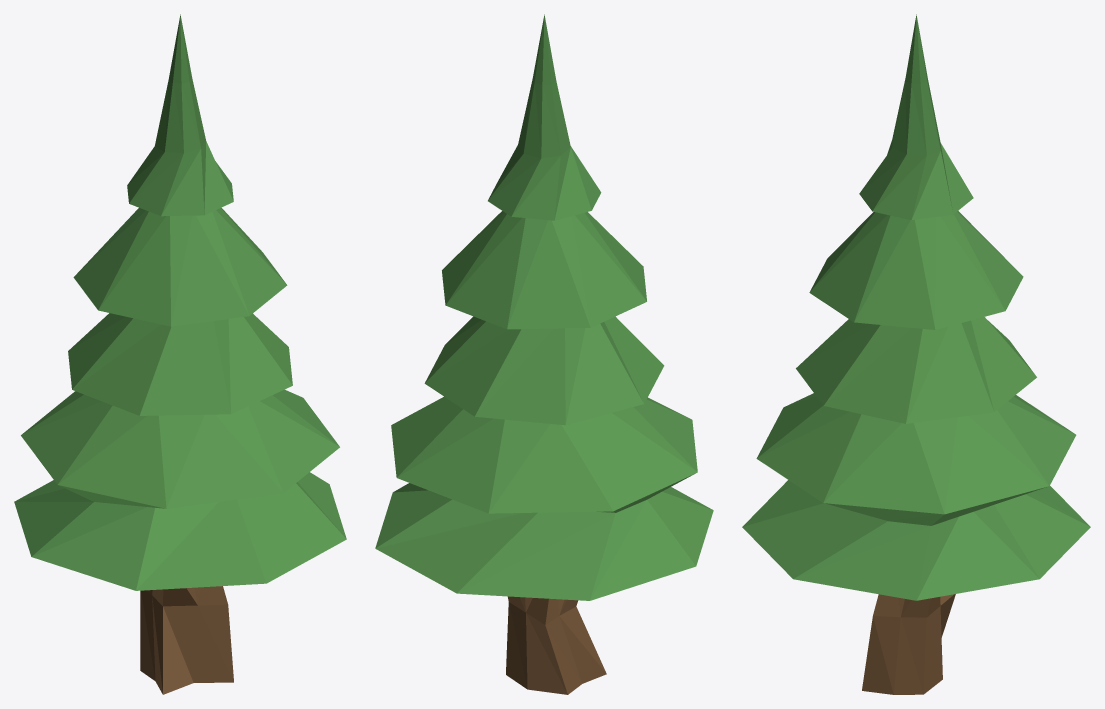
The model's file is tree3d-151.glb.
The picture shows the model from 3 angles, left to right: view 1: azimuth 30°, elevation 25°; view 2: azimuth 150°, elevation 25°; view 3: azimuth 270°, elevation 25°; orthographic projection.
Parts seen in each view (by area): view 1: tree3d-151; view 2: tree3d-151; view 3: tree3d-151.
Part boxes in pixels (box(x1,y1,x2,y2)): tree3d-151: box(14, 14, 346, 694); tree3d-151: box(375, 14, 713, 694); tree3d-151: box(742, 14, 1090, 694).
Bounding box in the file's own units: 0.4764 × 1 × 0.4764.
